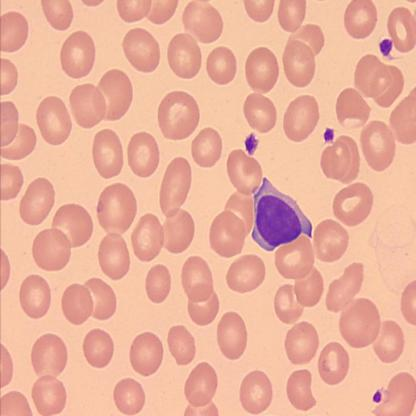Atypical lymphocyte: (251, 174, 314, 254)
